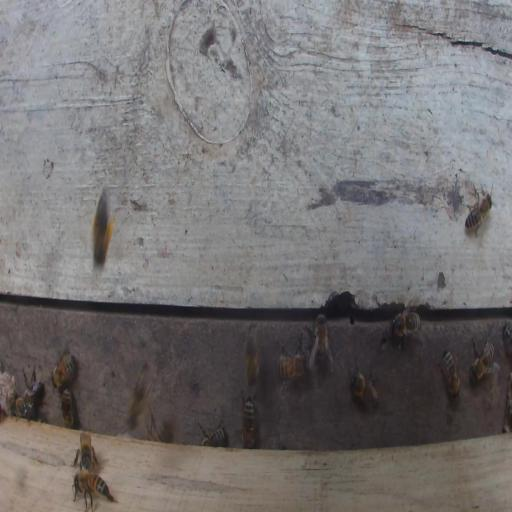bee: (90, 192, 114, 272), (74, 472, 116, 511), (350, 372, 378, 412), (130, 364, 148, 425), (465, 192, 493, 230), (471, 342, 496, 384), (51, 353, 78, 390), (74, 432, 99, 470), (442, 350, 461, 398), (391, 309, 420, 337), (276, 354, 306, 380), (314, 314, 328, 369), (242, 396, 255, 449), (245, 334, 258, 386), (9, 396, 35, 419), (24, 377, 45, 405), (201, 426, 225, 448), (147, 420, 170, 442), (61, 389, 73, 430), (503, 326, 512, 357)
